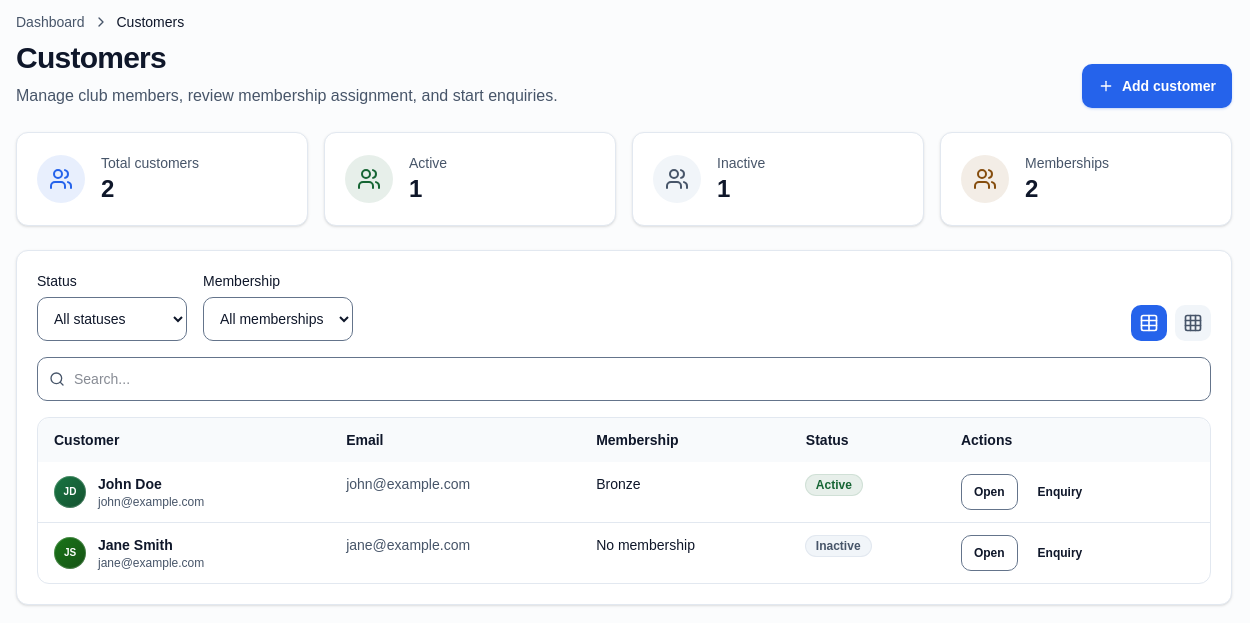
CustomersList › filters customers by status
The width and height of the screenshot is (1250, 623).
Select "Active" in the dropdown labelled "Status" at (112, 319), box x1=37 y1=297 x2=187 y2=341
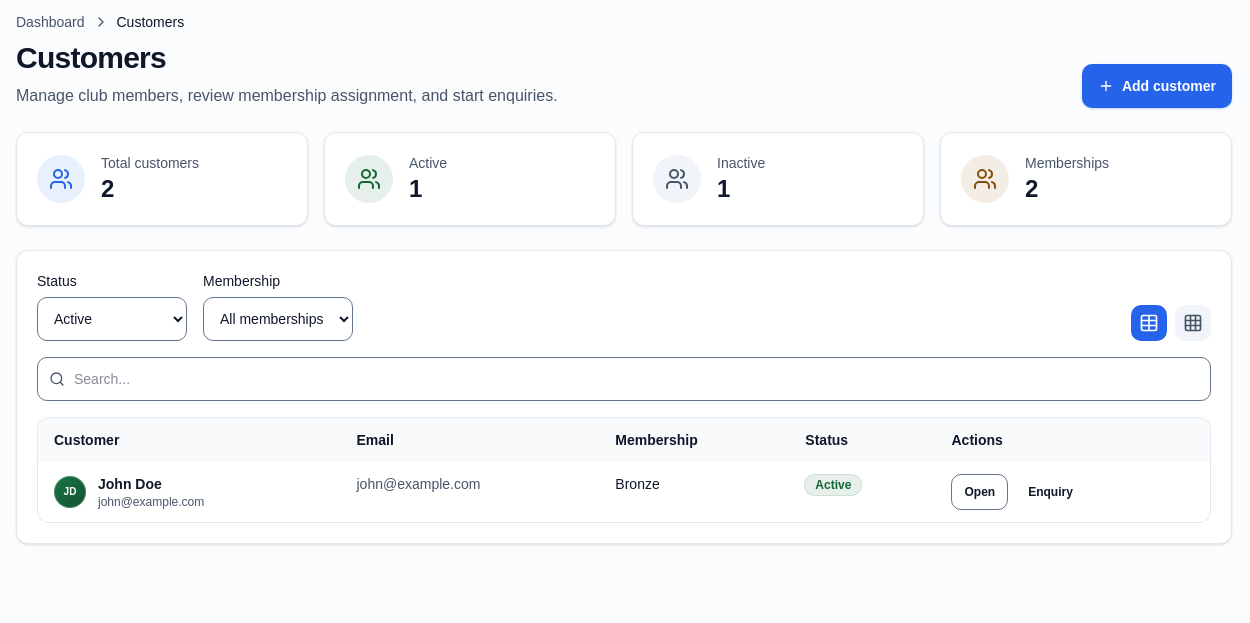
Expected: the text "John Doe" is shown, x1=98 y1=476 x2=162 y2=492
Result: the text "Jane Smith" is gone
